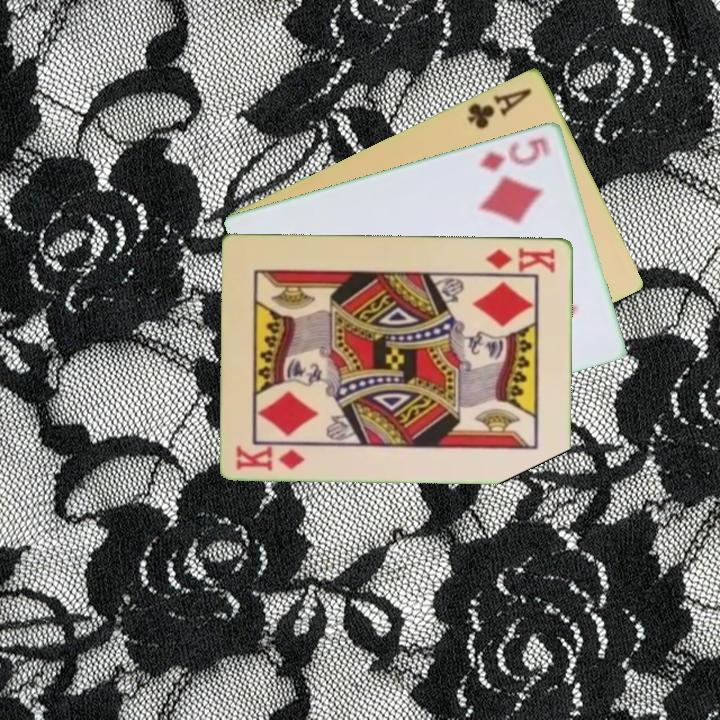5d: (476, 133, 555, 174)
Ac: (463, 84, 535, 132)
Kd: (233, 442, 308, 474), (482, 244, 559, 275)
